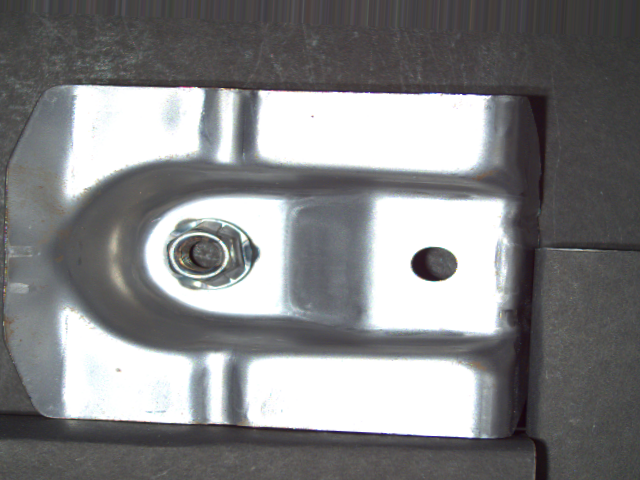good: (161, 216, 263, 296)
